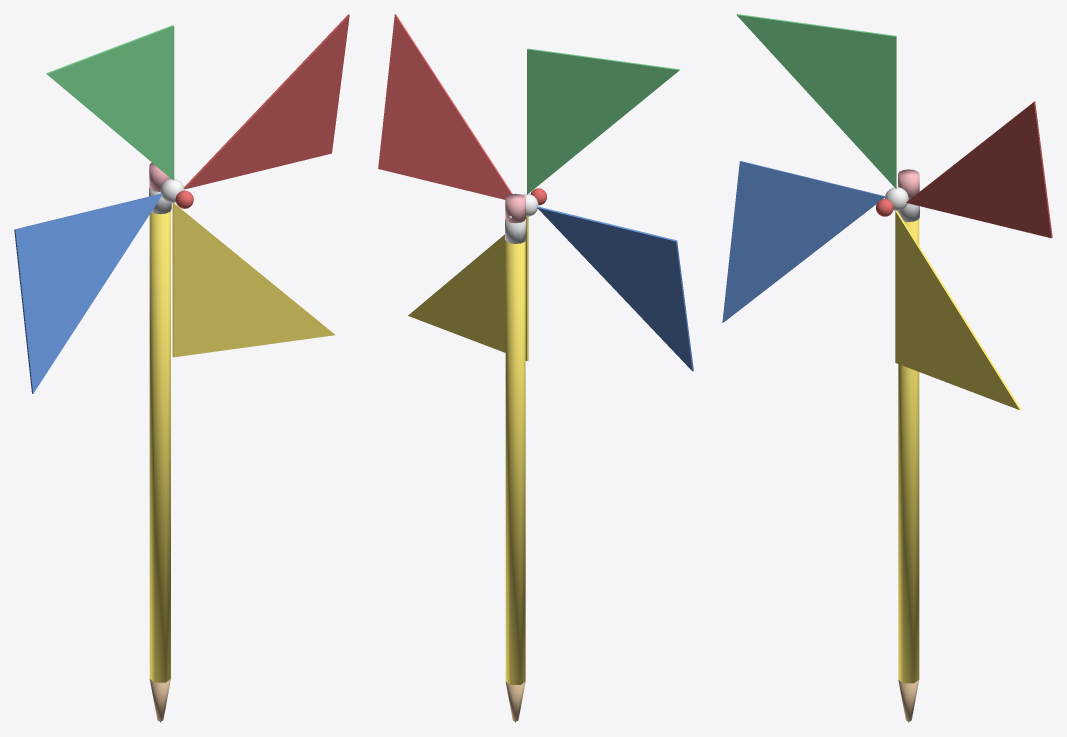
The model's file is pinwheel.glb.
3 views of the same model, side by side, from view 1: azimuth 30°, elevation 25°; view 2: azimuth 150°, elevation 25°; view 3: azimuth 330°, elevation 25° (orthographic). The views are drawn at different scales.
Parts seen in each view (by area): view 1: pw_blade2, pw_blade1, pw_blade0, pw_stick_body, pw_blade3, pw_stick_wood; view 2: pw_blade0, pw_blade3, pw_blade2, pw_stick_body, pw_blade1, pw_stick_eraser; view 3: pw_blade3, pw_blade2, pw_blade1, pw_blade0, pw_stick_body, pw_stick_wood.
Boxes of the visible parts, x1=… form: pw_blade2: x1=14, y1=193, x2=162, y2=393; pw_blade1: x1=172, y1=203, x2=334, y2=357; pw_blade0: x1=184, y1=14, x2=349, y2=189; pw_stick_body: x1=149, y1=211, x2=170, y2=682; pw_blade3: x1=46, y1=25, x2=174, y2=180; pw_stick_wood: x1=149, y1=679, x2=170, y2=721; pw_blade0: x1=378, y1=14, x2=512, y2=199; pw_blade3: x1=527, y1=48, x2=680, y2=194; pw_blade2: x1=537, y1=206, x2=693, y2=371; pw_stick_body: x1=505, y1=241, x2=525, y2=684; pw_blade1: x1=408, y1=216, x2=528, y2=360; pw_stick_eraser: x1=505, y1=193, x2=525, y2=223; pw_blade3: x1=736, y1=14, x2=896, y2=188; pw_blade2: x1=722, y1=161, x2=884, y2=322; pw_blade1: x1=895, y1=211, x2=1021, y2=409; pw_blade0: x1=906, y1=101, x2=1052, y2=238; pw_stick_body: x1=898, y1=219, x2=919, y2=683; pw_stick_wood: x1=898, y1=680, x2=918, y2=721.
Size of the model in its own units: 0.12 by 0.256 by 0.0244.
